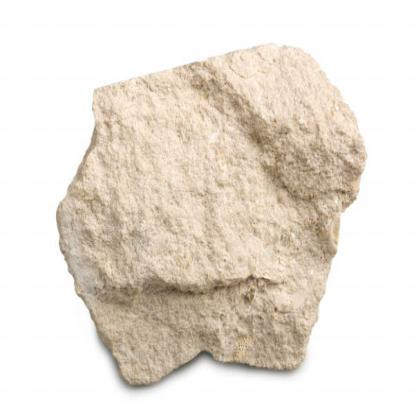Sedimentary_Limestone: (37, 31, 369, 397)
